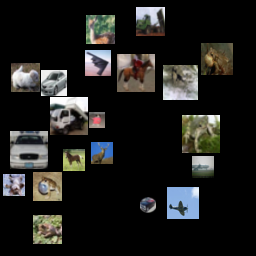airplane: (167, 187, 199, 219), (85, 50, 111, 76), (192, 156, 214, 178)
automobile: (10, 131, 48, 169), (41, 70, 67, 96), (140, 197, 156, 213)
cat: (163, 65, 198, 100), (3, 174, 25, 196)
deer: (86, 15, 115, 44), (91, 142, 113, 164)
dog: (11, 63, 40, 92), (89, 112, 105, 128)
frog: (182, 115, 220, 153), (201, 43, 233, 75), (33, 215, 62, 244), (33, 172, 62, 201)
